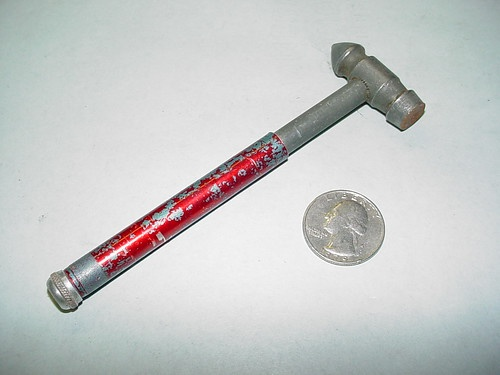hammer: (45, 39, 427, 315)
